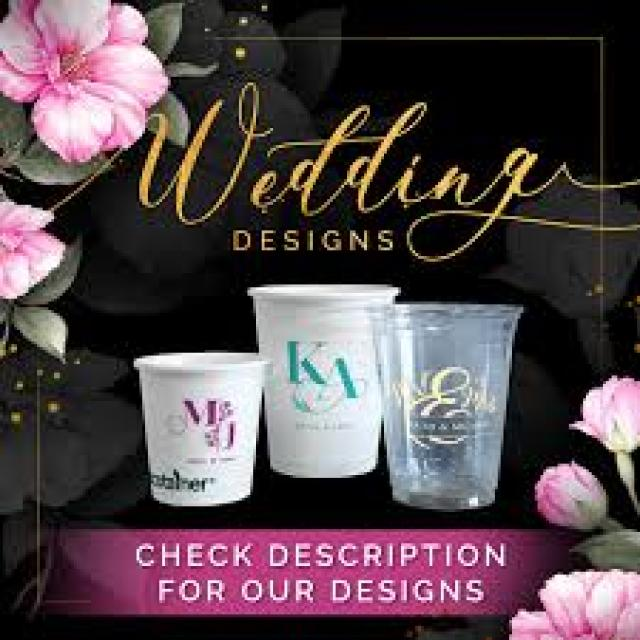cup: (351, 295, 537, 526)
